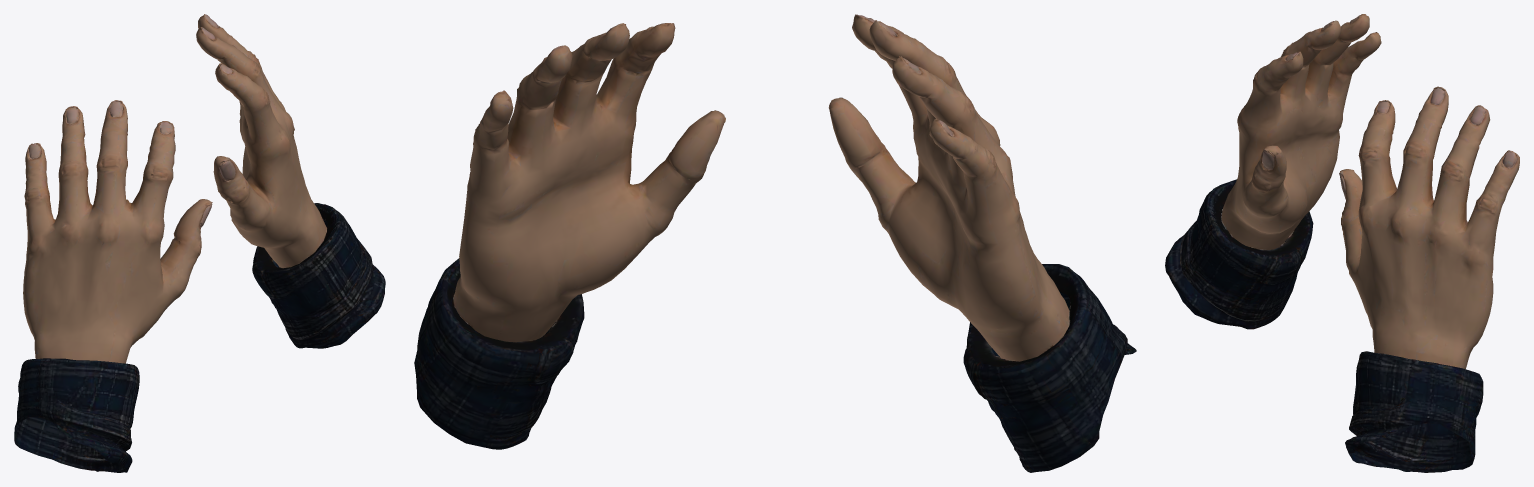
The model's file is first_person_hands.glb.
The picture shows the model from 3 angles, left to right: view 1: azimuth 30°, elevation 25°; view 2: azimuth 150°, elevation 25°; view 3: azimuth 270°, elevation 25°; orthographic projection. The views are drawn at different scales.
Visible parts, largest first — view 1: tripo_node_0cc3223f-23ff-4401-a543-902c2b26d39d; view 2: tripo_node_0cc3223f-23ff-4401-a543-902c2b26d39d; view 3: tripo_node_0cc3223f-23ff-4401-a543-902c2b26d39d.
Part boxes in pixels (x1,y1,x2,y2): tripo_node_0cc3223f-23ff-4401-a543-902c2b26d39d: [14, 14, 385, 472]; tripo_node_0cc3223f-23ff-4401-a543-902c2b26d39d: [414, 14, 1136, 472]; tripo_node_0cc3223f-23ff-4401-a543-902c2b26d39d: [1165, 14, 1519, 472].
Bounding box in the file's own units: 0.998 × 0.748 × 0.7012.
1 material, 1 textured.
